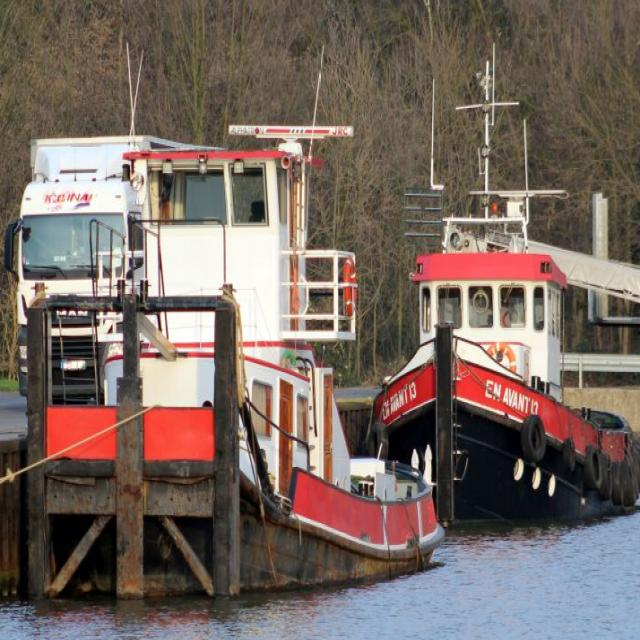tugboat: (22, 121, 449, 624), (369, 183, 640, 545)
